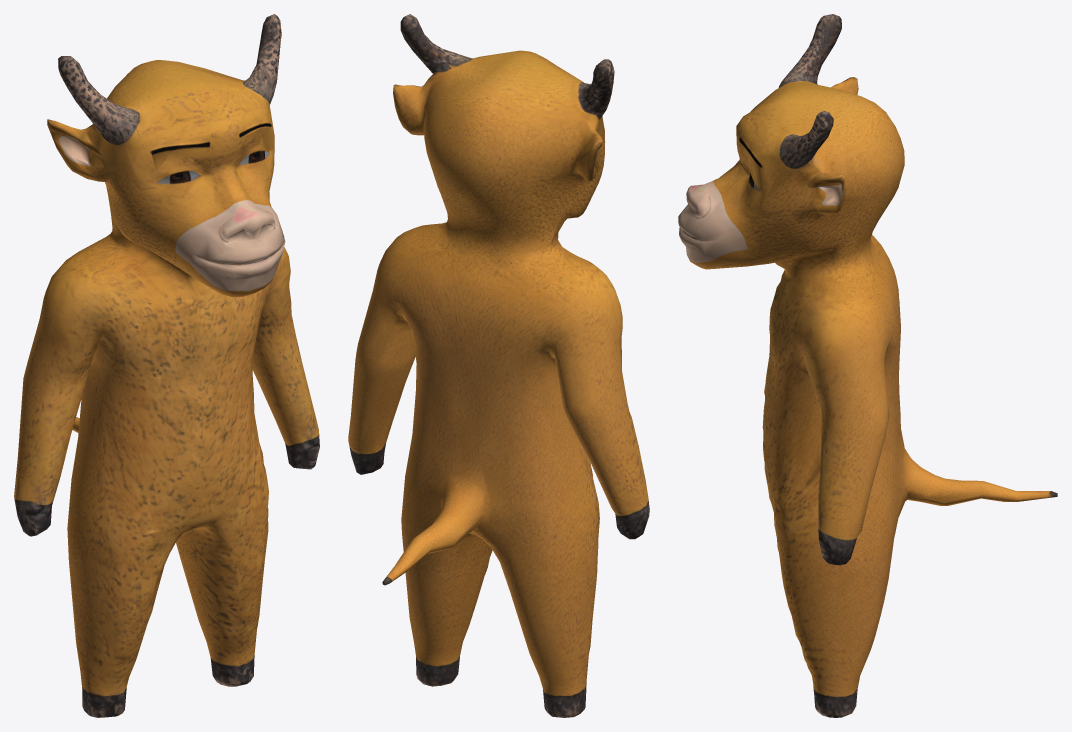
The model's file is 牛来-牛妈妈.fbx.
3 views of the same model, side by side, from view 1: azimuth 30°, elevation 25°; view 2: azimuth 150°, elevation 25°; view 3: azimuth 270°, elevation 25° (orthographic). The views are drawn at different scales.
Parts seen in each view (by area): view 1: tripo_node_76b9bd57; view 2: tripo_node_76b9bd57; view 3: tripo_node_76b9bd57.
Part boxes in pixels (x1=…): tripo_node_76b9bd57: x1=14, y1=14, x2=319, y2=717; tripo_node_76b9bd57: x1=348, y1=14, x2=649, y2=717; tripo_node_76b9bd57: x1=678, y1=14, x2=1057, y2=717.
Size of the model in its own units: 0.4704 by 0.9995 by 0.5541.
1 material, 1 textured.
